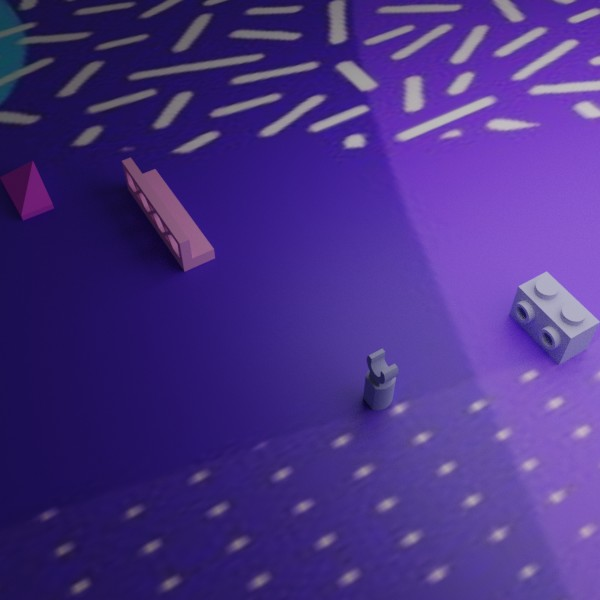lego: (121, 157, 215, 271), (509, 271, 600, 364), (0, 160, 54, 220), (363, 348, 398, 410)
